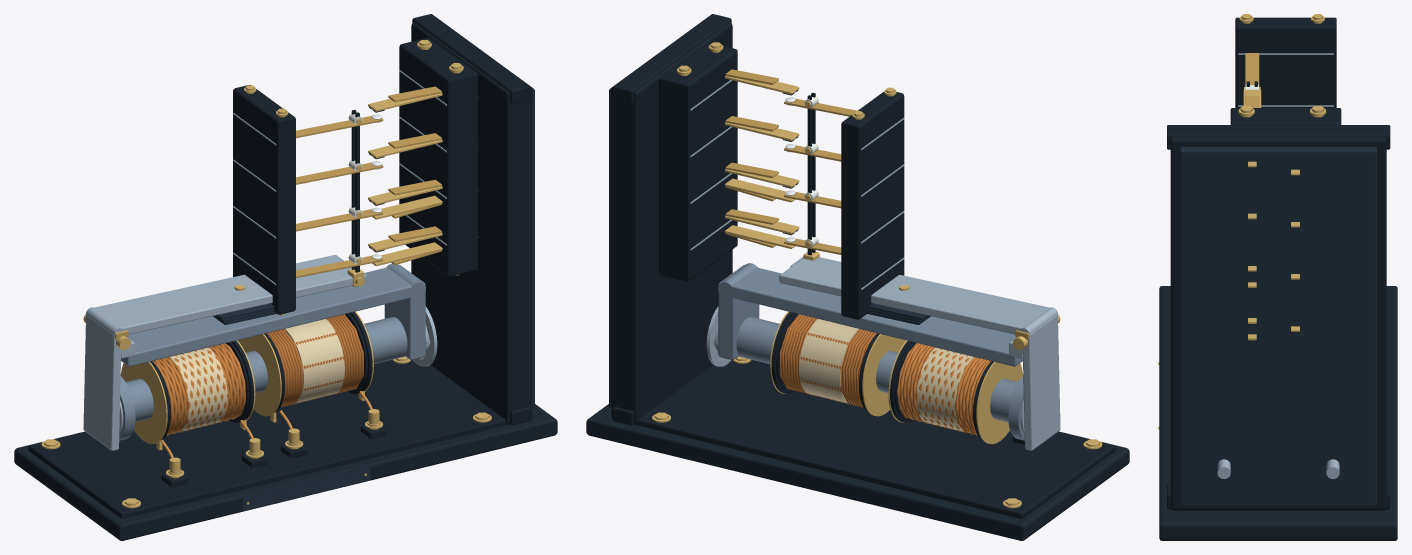
Rendered from JWXC-370-480-dropped.glb.
3 renders of one model, left to right at view 1: azimuth 30°, elevation 25°; view 2: azimuth 150°, elevation 25°; view 3: azimuth 270°, elevation 25°, orthographic. The views are drawn at different scales.
Parts seen in each view (by area): view 1: base (×6), contactBlock (×2), coil (×6), armature (×2), yoke (×2), core, back (×2), pole; view 2: base (×5), contactBlock (×2), coil (×6), armature (×2), yoke (×2), core, pole, back; view 3: base (×4), contactBlock (×2), common.
Part boxes in pixels (left/top/right/bottom): base (×6): left=14, top=14, right=557, bottom=540; contactBlock (×2): left=233, top=38, right=477, bottom=314; coil (×6): left=120, top=314, right=363, bottom=444; armature (×2): left=83, top=255, right=364, bottom=450; yoke (×2): left=121, top=264, right=425, bottom=366; core: left=125, top=317, right=407, bottom=422; back (×2): left=372, top=195, right=442, bottom=266; pole: left=119, top=376, right=135, bottom=440; base (×5): left=586, top=14, right=1129, bottom=540; contactBlock (×2): left=659, top=42, right=904, bottom=319; coil (×6): left=780, top=314, right=1023, bottom=444; armature (×2): left=779, top=257, right=1060, bottom=450; yoke (×2): left=718, top=264, right=1022, bottom=366; core: left=736, top=317, right=1018, bottom=422; pole: left=1008, top=376, right=1024, bottom=440; back: left=725, top=225, right=795, bottom=248; base (×4): left=1159, top=125, right=1397, bottom=540; contactBlock (×2): left=1230, top=17, right=1341, bottom=124; common: left=1245, top=53, right=1259, bottom=86.
Size of the model in its own units: 6.05 by 4.73 by 2.55.
